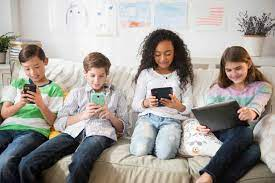Mobile-phone: (149, 86, 174, 109), (91, 93, 106, 117), (22, 83, 38, 104)
